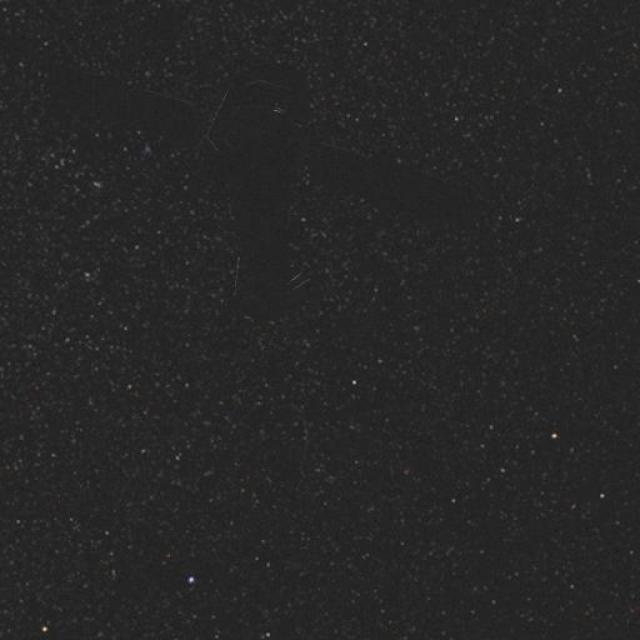xmm_newton: (158, 82, 406, 350)
